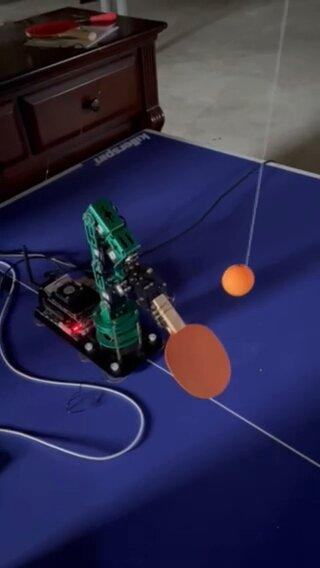oball: (220, 264, 254, 296)
